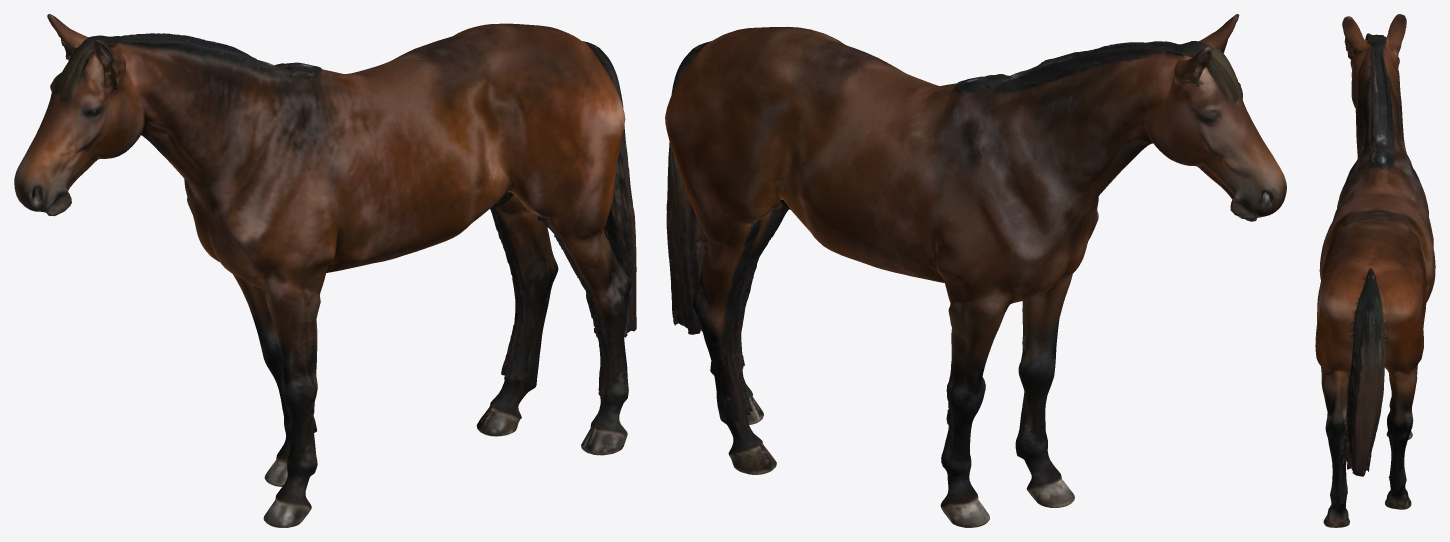
Rendered from horse_finished.glb.
The picture shows the model from 3 angles, left to right: view 1: azimuth 30°, elevation 25°; view 2: azimuth 150°, elevation 25°; view 3: azimuth 270°, elevation 25°; orthographic projection. The views are drawn at different scales.
Parts seen in each view (by area): view 1: RETOPO; view 2: RETOPO; view 3: RETOPO.
Boxes of the visible parts, x1,y1,x2,y2 form: RETOPO: (14, 14, 636, 527); RETOPO: (665, 14, 1286, 527); RETOPO: (1315, 14, 1435, 527).
Size of the model in its own units: 0.9062 by 0.7485 by 0.2344.
Materials: 1 (1 with a texture image).
